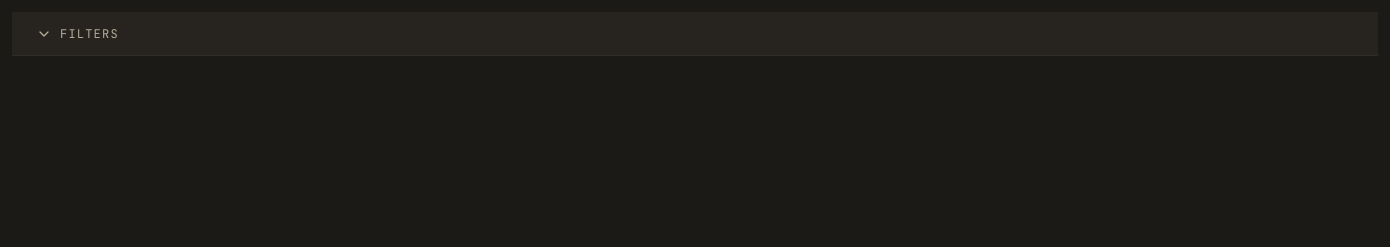
Test: ListFilterBar › renders all chips as buttons with aria-pressed=false
The width and height of the screenshot is (1390, 247).
Click the button "Filters".
click(89, 34)  # box [12, 12, 1378, 56]
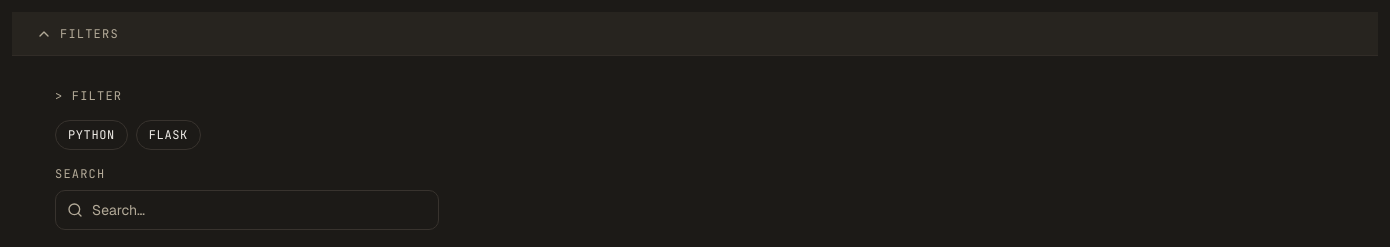
expect the button with aria-label "Filter by Python" is shown: met, box [55, 120, 128, 150]
expect the button with aria-label "Filter by Flask" is shown: met, box [136, 120, 201, 150]
